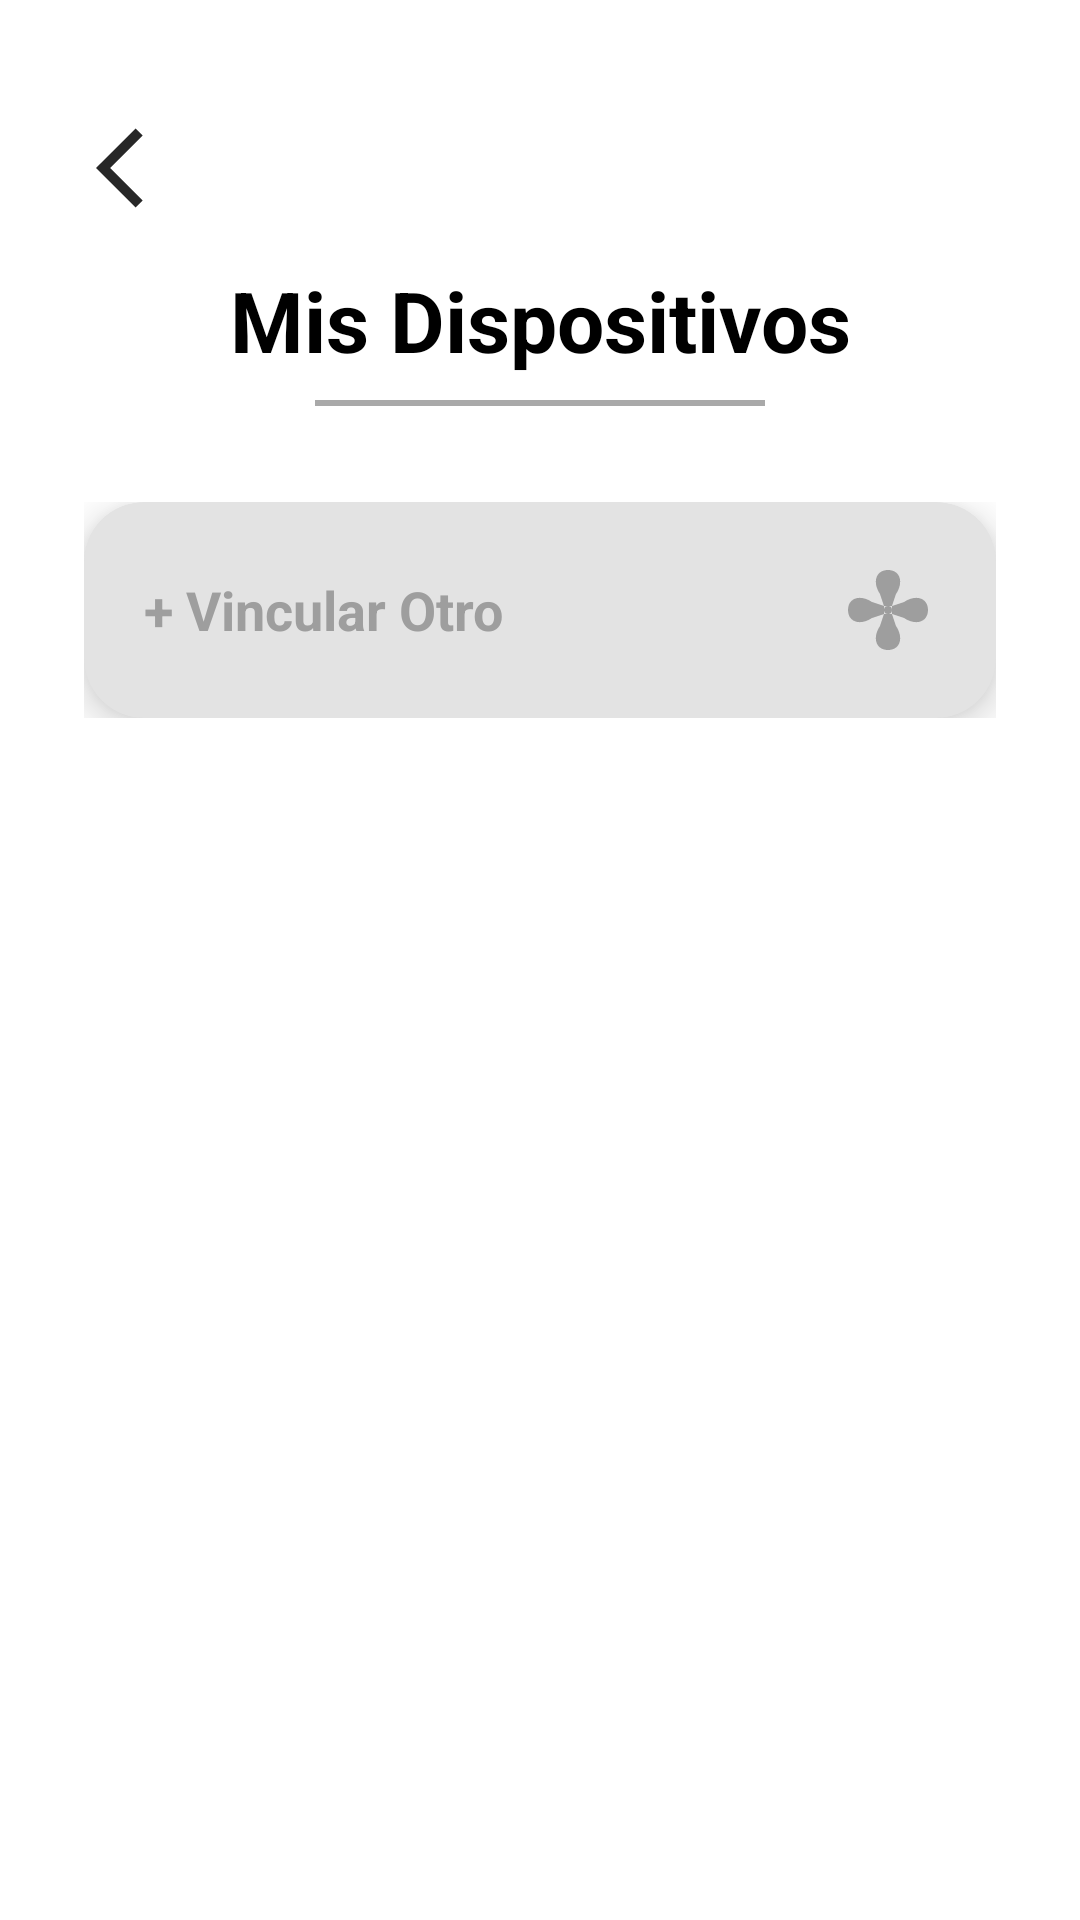

Point at icon controls on the screen. Image size 1080px x 1920px, points as [x,y].
Volver: [119,168]
